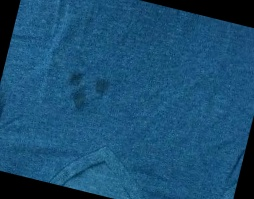oil: (62, 68, 114, 117)
